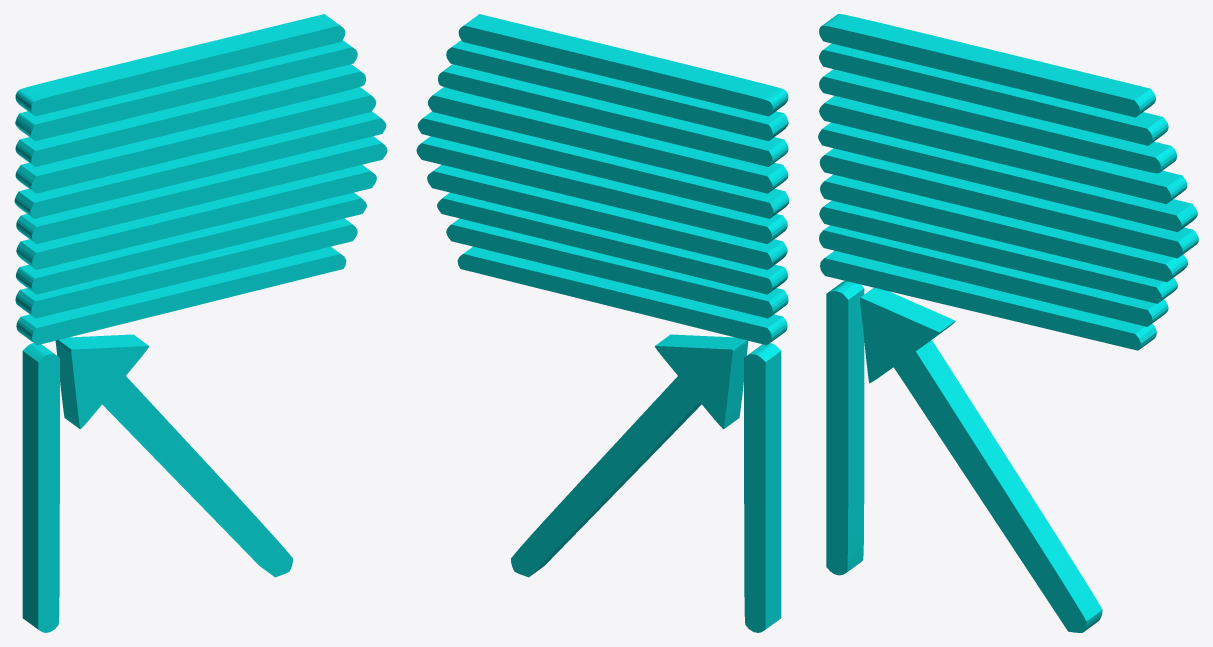
3 renders of one model, left to right at view 1: azimuth 30°, elevation 25°; view 2: azimuth 150°, elevation 25°; view 3: azimuth 330°, elevation 25°, orthographic. The views are drawn at different scales.
Parts seen in each view (by area): view 1: OpenSCAD_Model; view 2: OpenSCAD_Model; view 3: OpenSCAD_Model.
Boxes of the visible parts, x1,y1,x2,y2 form: OpenSCAD_Model: (14, 14, 387, 632); OpenSCAD_Model: (416, 14, 789, 632); OpenSCAD_Model: (818, 14, 1198, 632).
Bounding box in the file's own units: 92 × 132 × 7.
